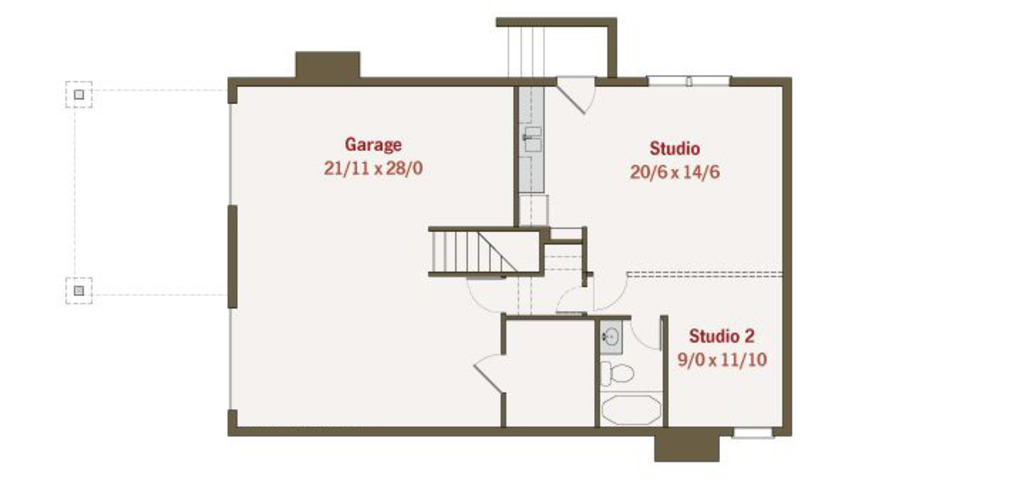door: (556, 79, 601, 117), (472, 352, 510, 395), (467, 282, 512, 316), (627, 315, 666, 352), (552, 282, 590, 314), (593, 276, 628, 308)
large_sink: (602, 360, 636, 389)
small_sink: (598, 320, 622, 357)
stairs: (487, 21, 614, 73), (421, 226, 543, 271)
tub: (602, 393, 663, 424)
window: (651, 74, 731, 85), (738, 425, 773, 437)
